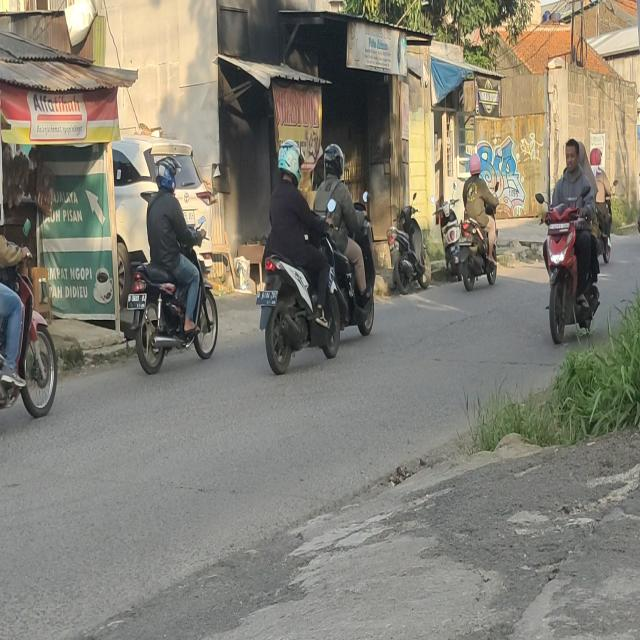helmet: (279, 139, 302, 181), (156, 156, 178, 188), (325, 145, 345, 179), (470, 153, 481, 175), (590, 148, 601, 165)
no-helmet: (566, 142, 578, 170), (578, 141, 588, 164)
